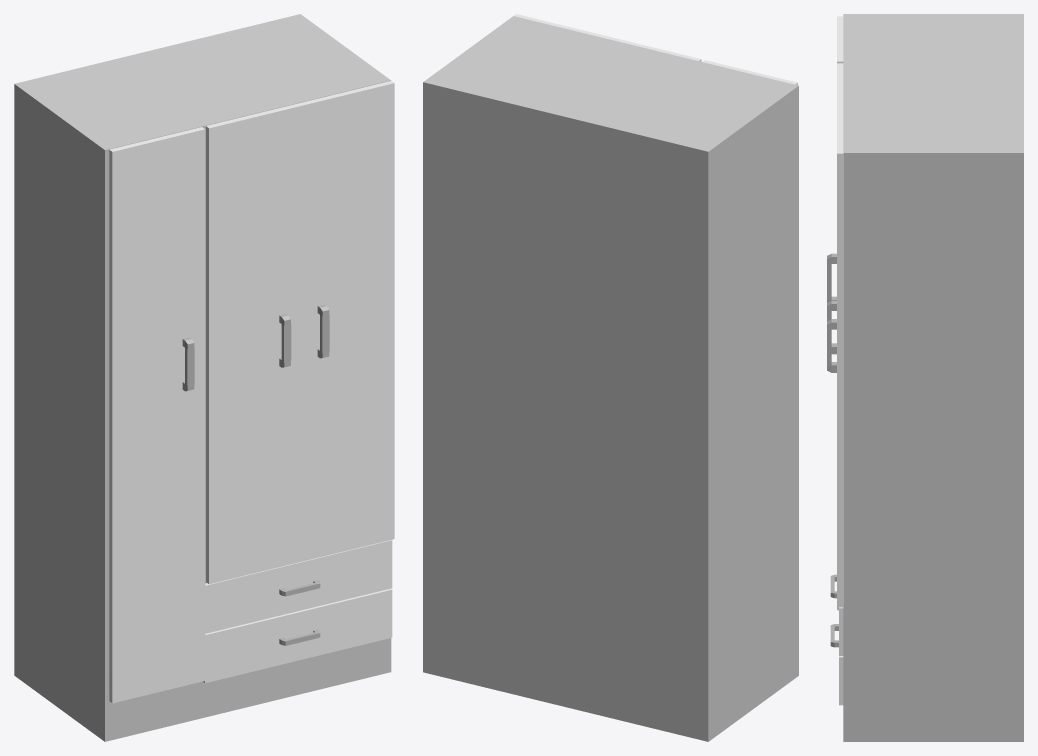
Rendered from placard pri(1).fbx.
3 renders of one model, left to right at view 1: azimuth 30°, elevation 25°; view 2: azimuth 150°, elevation 25°; view 3: azimuth 270°, elevation 25°, orthographic.
Parts seen in each view (by area): view 1: Placard, P.Lar, P.Cor.1, P.Cor.2, Cajon.1, Cajon.002; view 2: Placard; view 3: Placard, P.Cor.2, P.Lar, P.Cor.1, Cajon.1, Cajon.002.
Boxes of the visible parts, x1,y1,x2,y2 form: Placard: (14,14,391,741); P.Lar: (109,127,205,703); P.Cor.1: (206,103,301,584); P.Cor.2: (299,80,394,561); Cajon.1: (203,588,392,683); Cajon.002: (205,540,392,633); Placard: (423,16,798,741); Placard: (843,14,1023,741); P.Cor.2: (827,108,843,607); P.Lar: (827,16,843,610); P.Cor.1: (827,63,843,354); Cajon.1: (830,624,843,705); Cajon.002: (830,574,843,655).
Bounding box in the file's own units: 91.1 × 180 × 54.45.
1 material, 1 textured.
